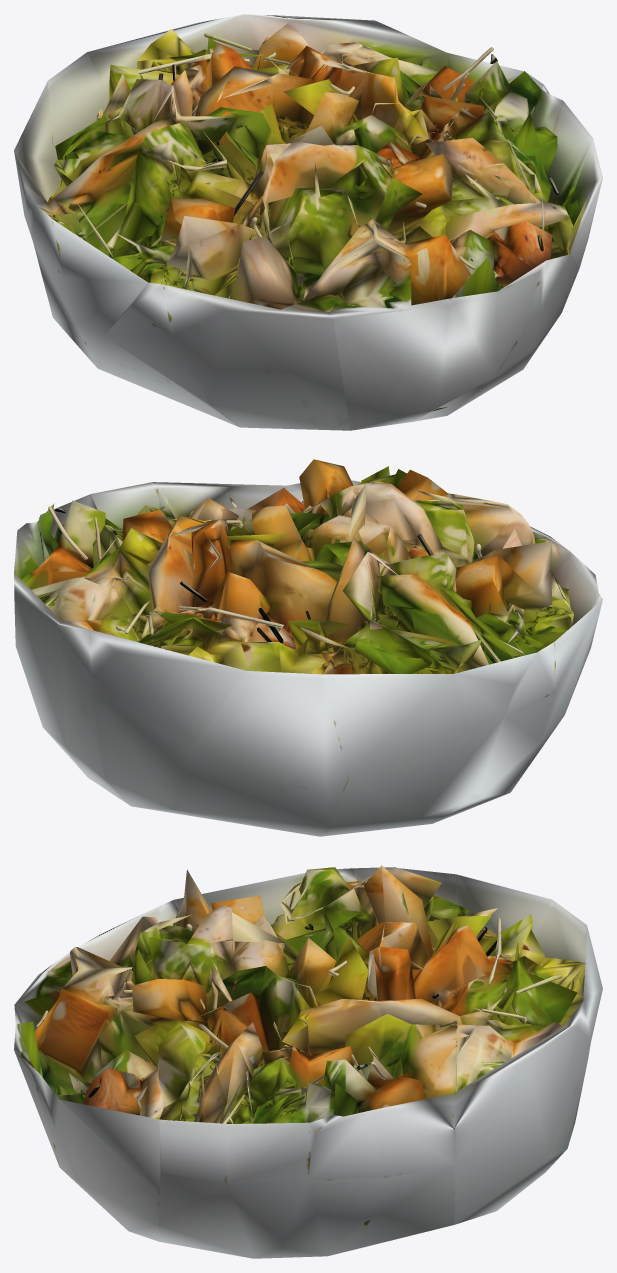
The model's file is salada-caesar.glb.
3 renders of one model, top to bottom at view 1: azimuth 30°, elevation 25°; view 2: azimuth 150°, elevation 25°; view 3: azimuth 270°, elevation 25°, orthographic. The views are drawn at different scales.
Visible parts, largest first — view 1: world; view 2: world; view 3: world.
Boxes of the visible parts, <box> form: world: <box>14,14,602,430</box>; world: <box>14,459,602,836</box>; world: <box>14,865,602,1258</box>.
Bounding box in the file's own units: 0.2 × 0.1025 × 0.1994.
1 material, 1 textured.
